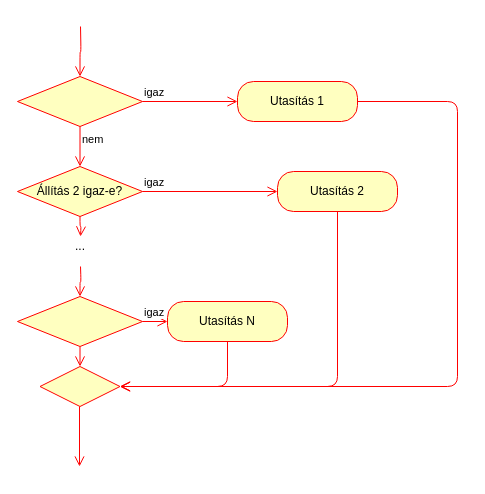
The diagram is 485 pixels wide and 494 high, and some of its shapes have lost their labels. The shapes that lost their labels are listed below. From the top down, each one's centre as x and y in pixels, then its label:
point (79, 101): Állítás 1 igaz-e?
point (79, 321): Állítás N igaz-e?
